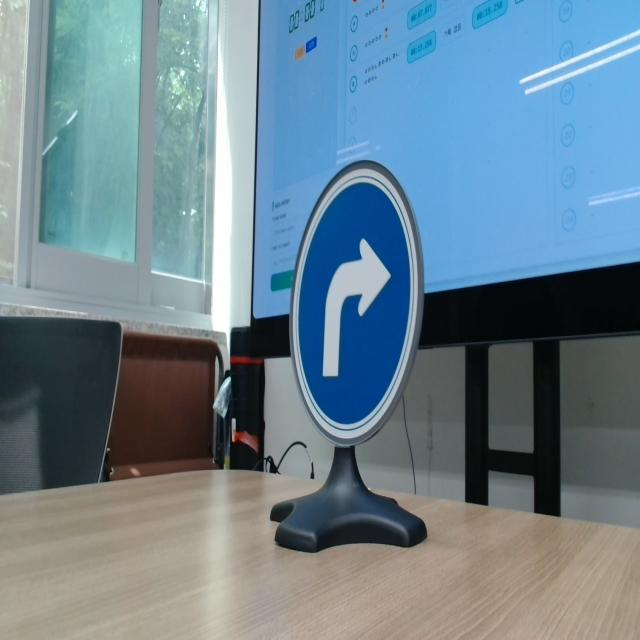right_dierection: (288, 158, 428, 448)
